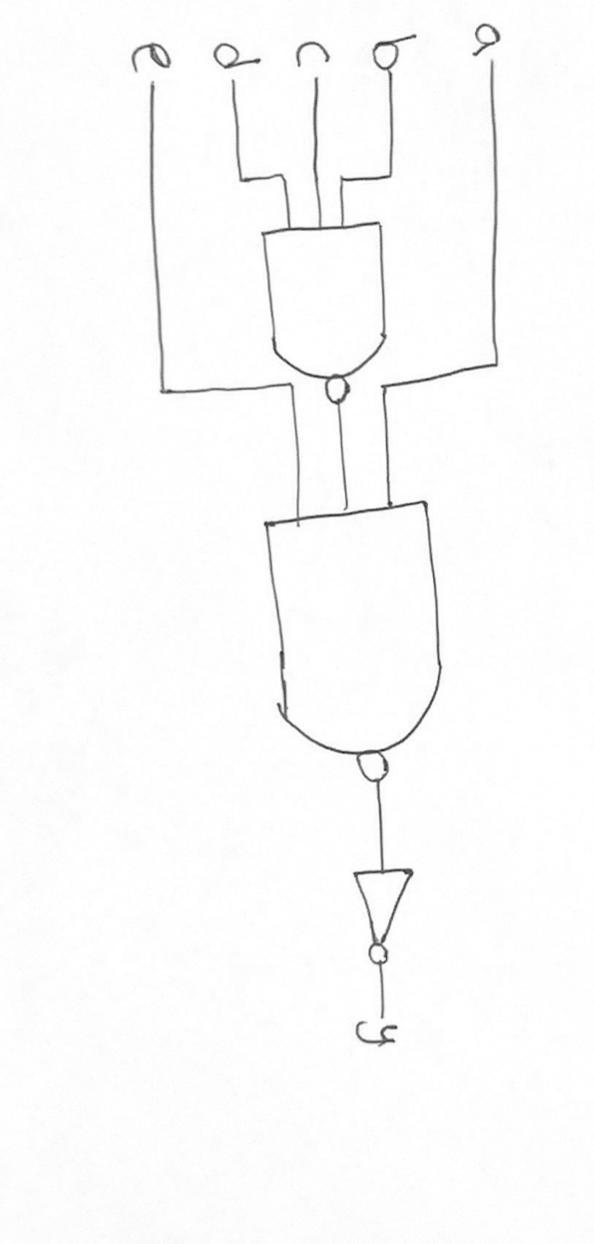NAND: (233, 498, 492, 804), (242, 223, 412, 407)
NOT: (327, 860, 440, 973)
